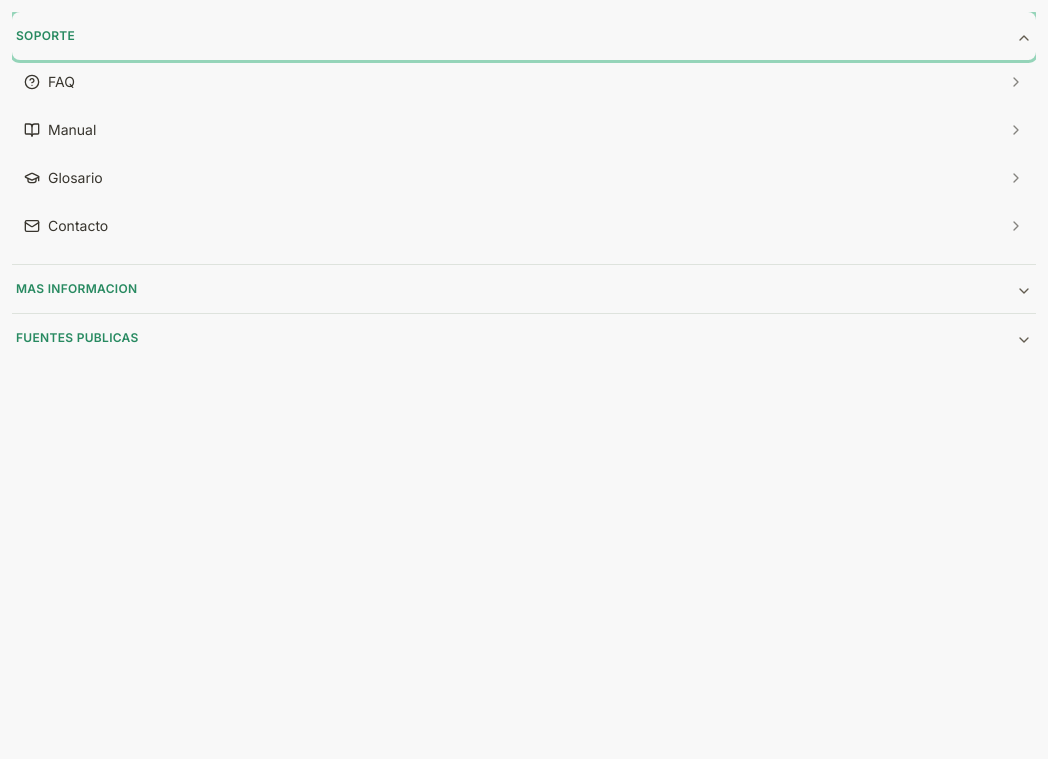
Scenario: NavigationDrawerCollapsibleGroups › shows mobile support and more information links, and routes external actions through callback
Earlier steps of the test are not shown.
Later steps or results of the test are not shown.
Click the link "Contacto": (78, 226) x1=24 y1=217 x2=1024 y2=234
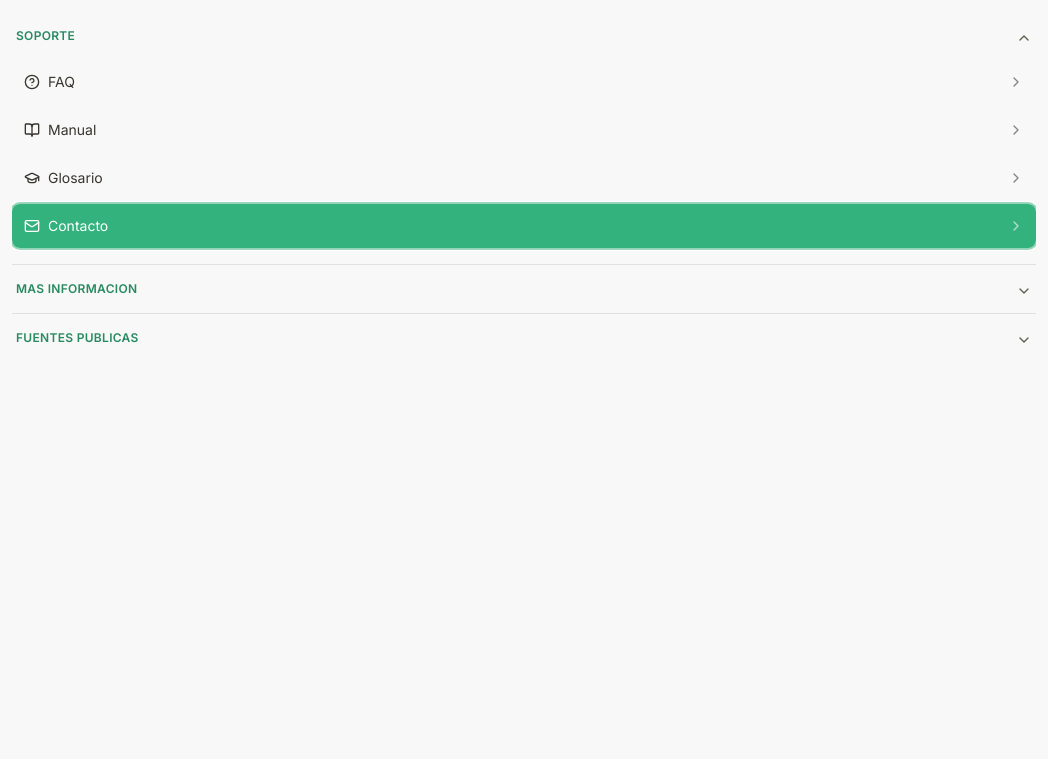
Click the button "Mas informacion": (77, 288) x1=12 y1=265 x2=1036 y2=313
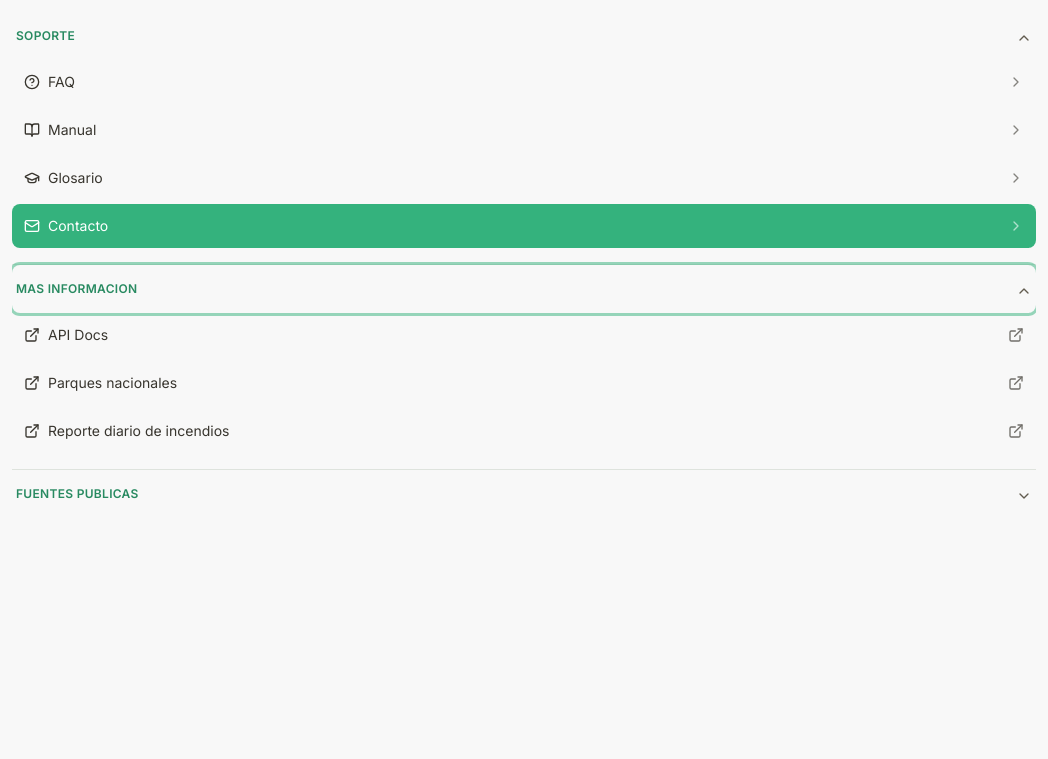
Click the button "API Docs": (78, 334) x1=12 y1=313 x2=1036 y2=357
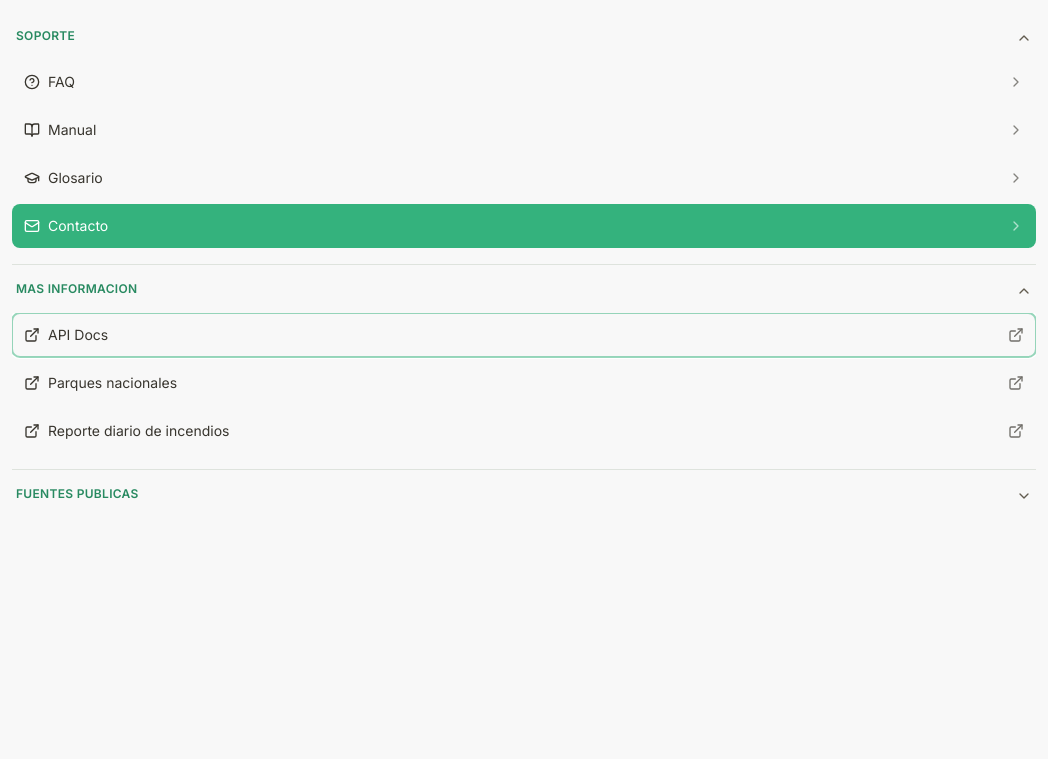
Click the button "Parques nacionales": (113, 382) x1=12 y1=361 x2=1036 y2=405
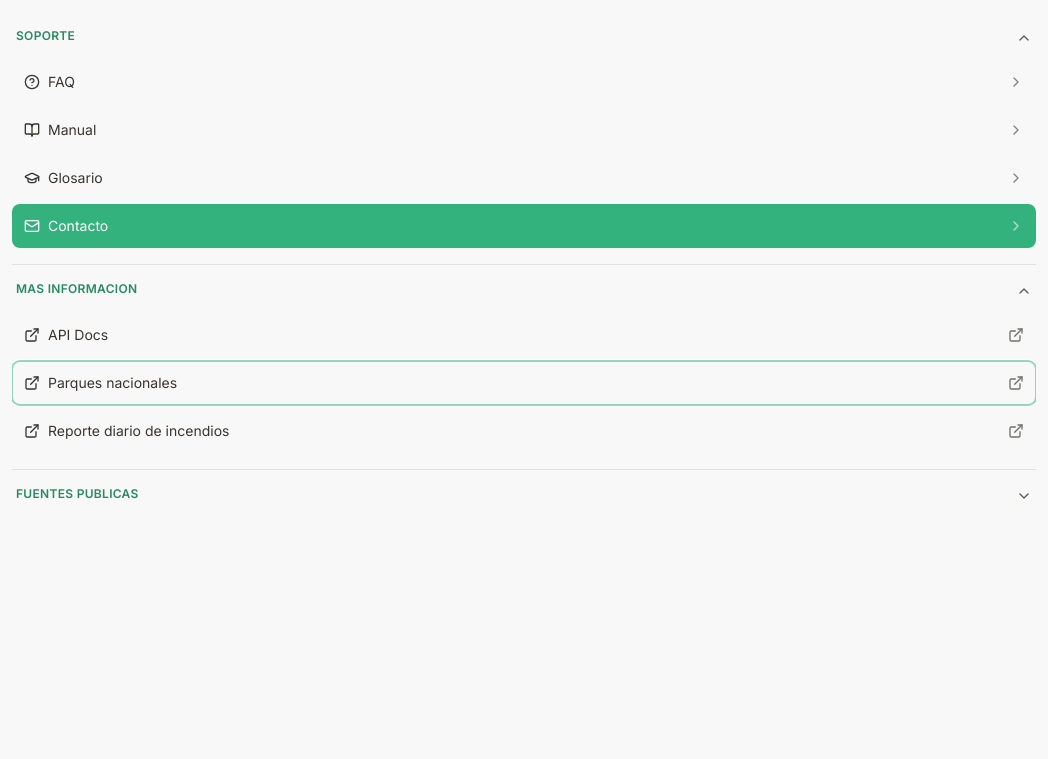
Click the button "Reporte diario de incendios": (139, 430) x1=12 y1=409 x2=1036 y2=453
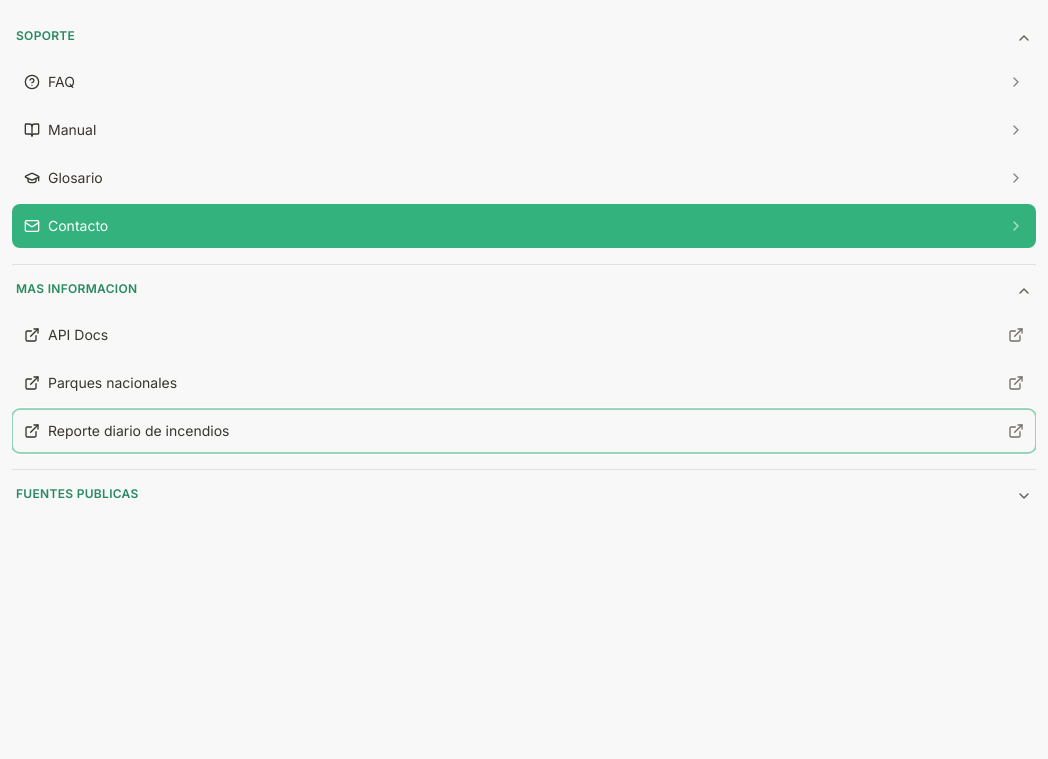
Click the button "Fuentes publicas": (77, 494) x1=12 y1=470 x2=1036 y2=518
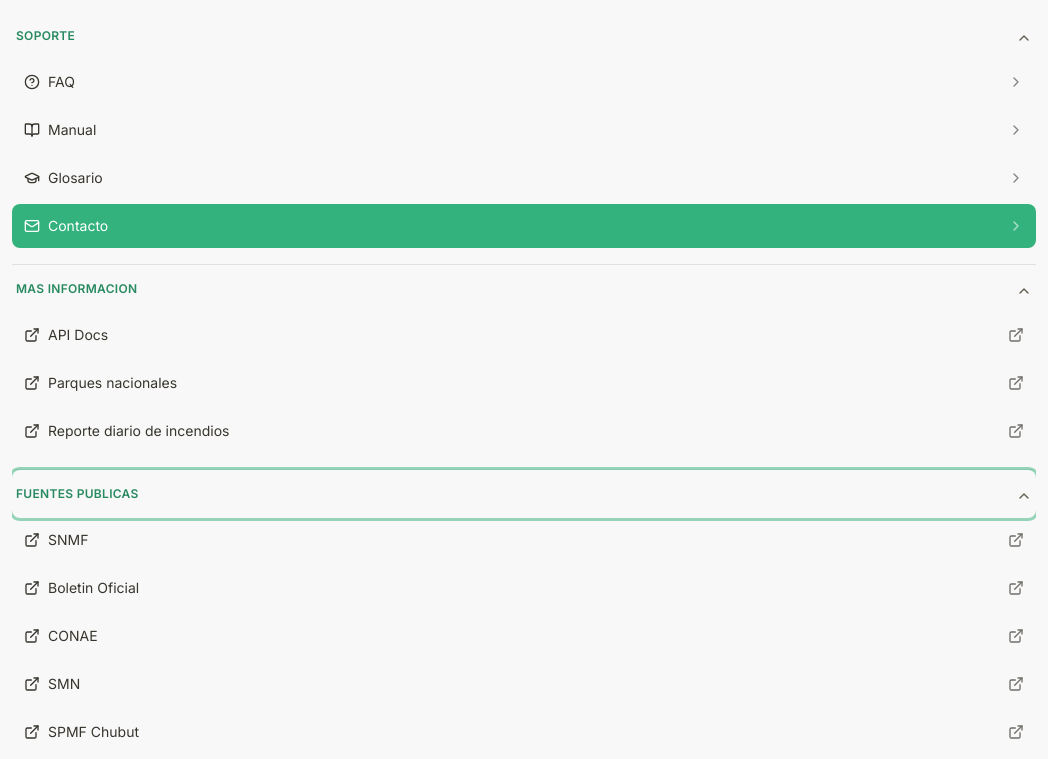
Expected: the button "SNMF" is shown, x1=12 y1=518 x2=1036 y2=562
